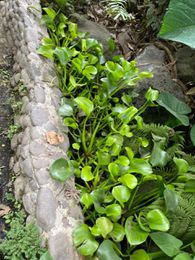water_hyacinth: (42, 3, 172, 260)
